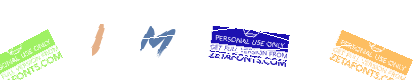0: (209, 0, 289, 80)
6: (169, 0, 249, 80)
9: (0, 0, 80, 80)
J: (160, 0, 240, 80), (300, 0, 380, 80)
M: (168, 0, 248, 80)
